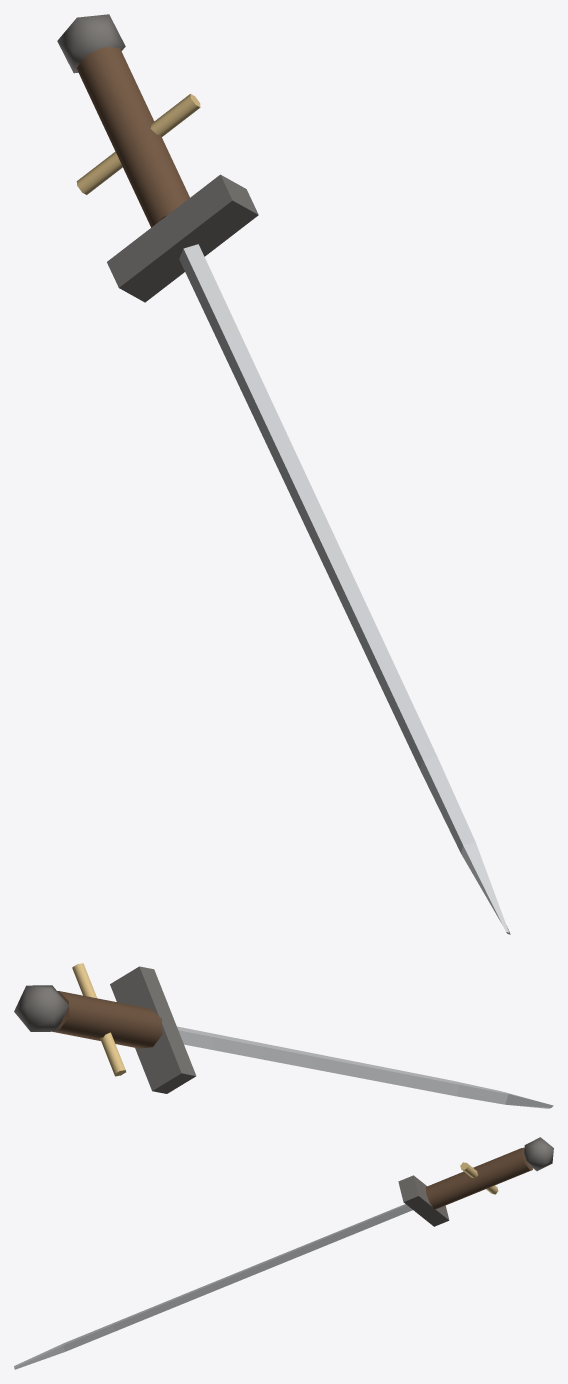
File: wpn_rapier.glb
The picture shows the model from 3 angles, top to bottom: view 1: azimuth 30°, elevation 25°; view 2: azimuth 150°, elevation 25°; view 3: azimuth 270°, elevation 25°; orthographic projection. The views are drawn at different scales.
Visible parts, largest first — view 1: wpn_rapier; view 2: wpn_rapier; view 3: wpn_rapier.
Boxes of the visible parts, box(x1,y1,x2,y2) form: wpn_rapier: box(57, 14, 510, 934); wpn_rapier: box(14, 963, 553, 1108); wpn_rapier: box(14, 1137, 553, 1369).
Bounding box in the file's own units: 0.0779 × 0.2612 × 0.5011.
